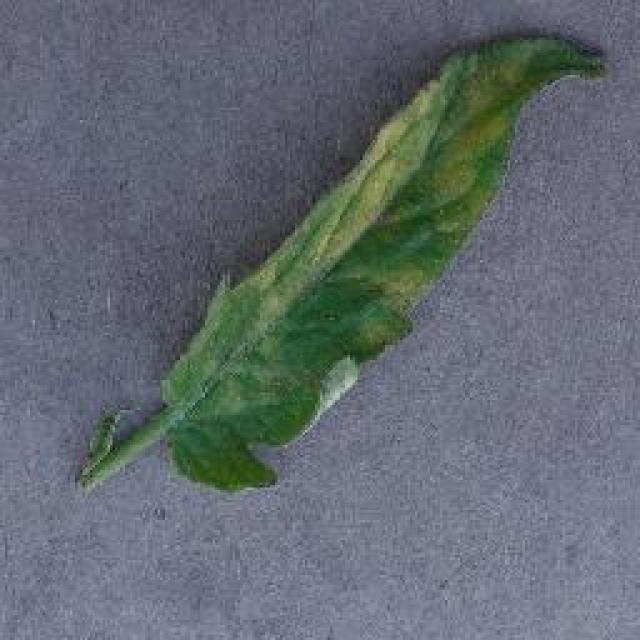Tomato___Leaf_Mold: (80, 38, 602, 488)
